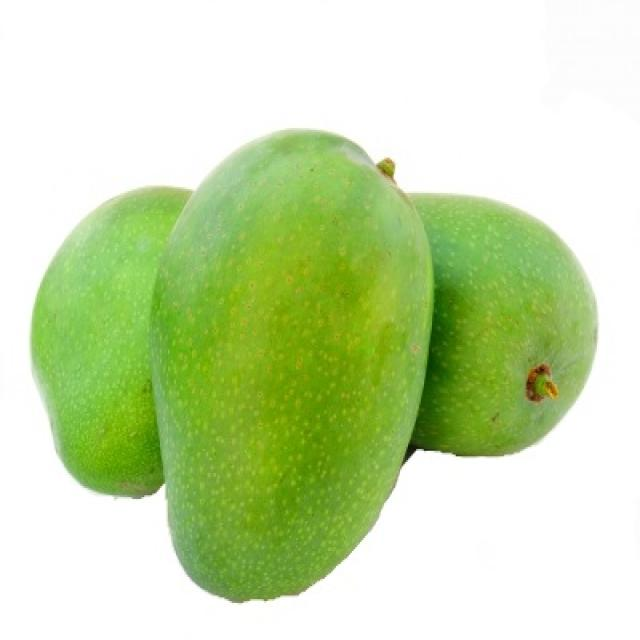mango: (146, 102, 442, 611)
